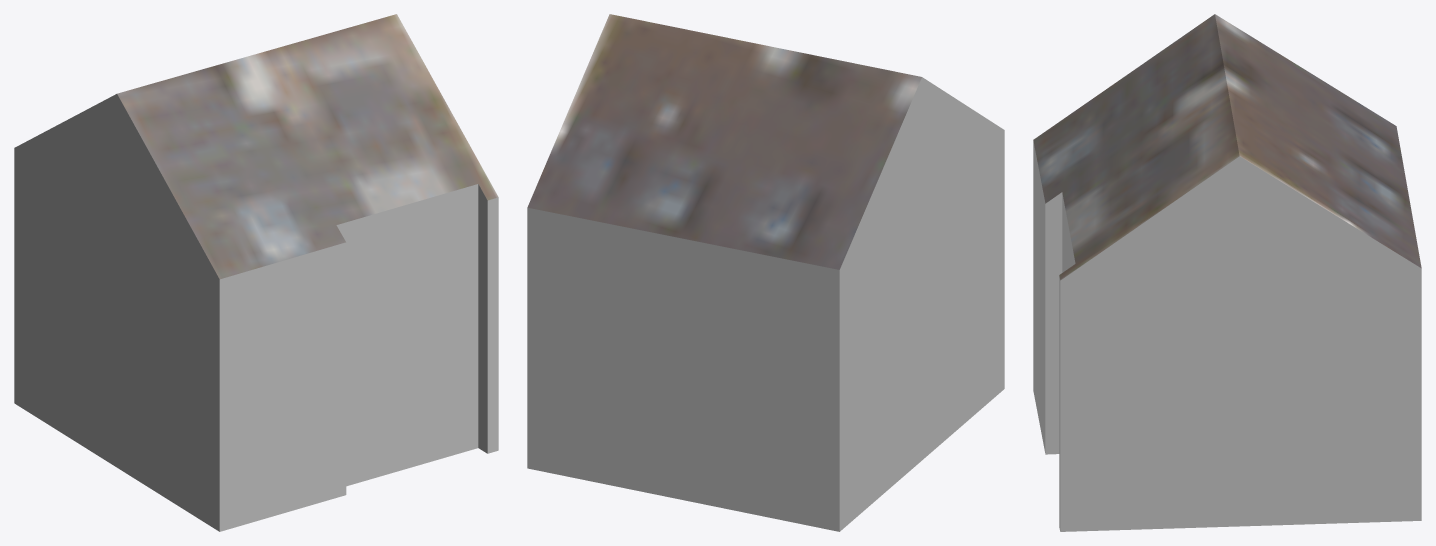
The model's file is DEBW_0010007Txdi.gltf.
3 views of the same model, side by side, from view 1: azimuth 30°, elevation 25°; view 2: azimuth 150°, elevation 25°; view 3: azimuth 270°, elevation 25° (orthographic). The views are drawn at different scales.
Parts seen in each view (by area): view 1: Z_UP; view 2: Z_UP; view 3: Z_UP.
Part boxes in pixels (bbox=[...]): Z_UP: bbox=[14, 14, 498, 531]; Z_UP: bbox=[527, 14, 1004, 531]; Z_UP: bbox=[1033, 14, 1421, 531].
Size of the model in its own units: 9.47 by 10.75 by 10.2.
Materials: 2 (1 with a texture image).
